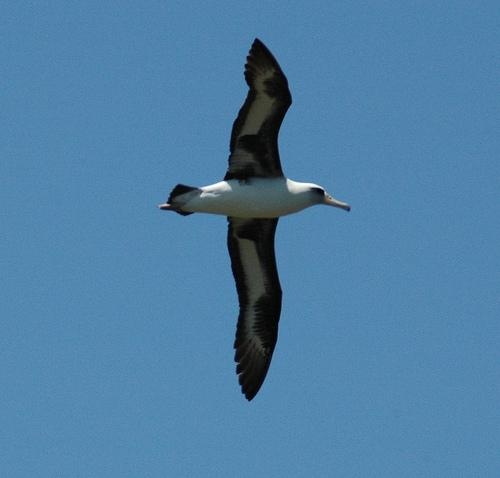bird: (147, 36, 350, 402)
